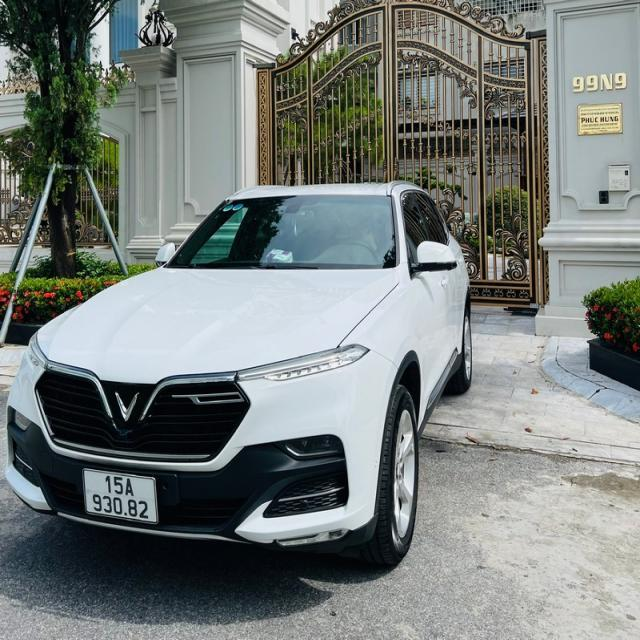car: (13, 186, 481, 568)
plate: (78, 467, 163, 526)
